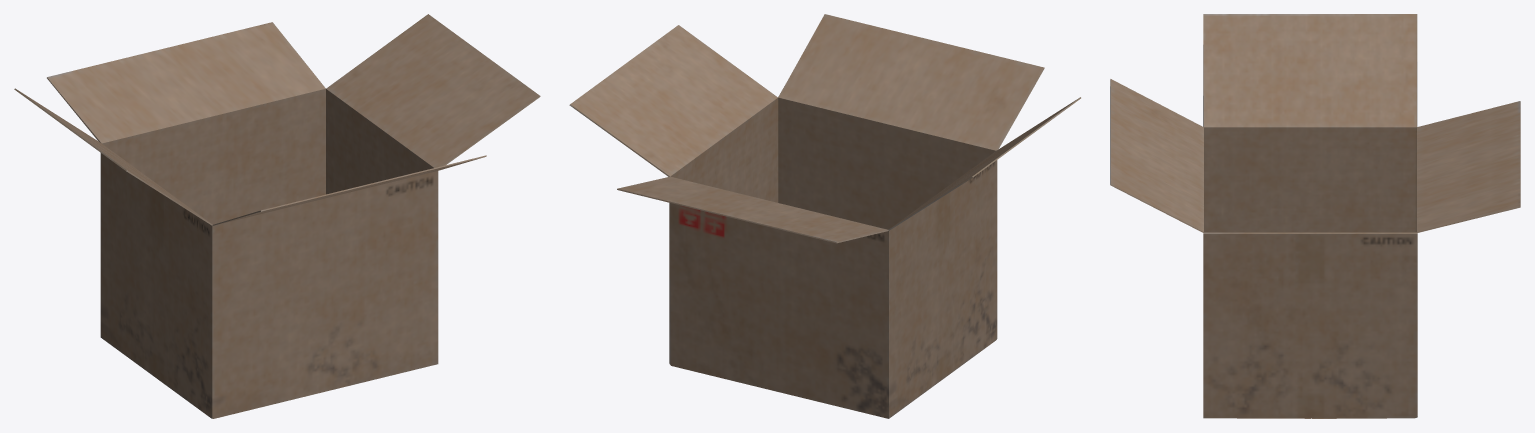
File: Cardboard box.fbx
3 views of the same model, side by side, from view 1: azimuth 30°, elevation 25°; view 2: azimuth 150°, elevation 25°; view 3: azimuth 270°, elevation 25° (orthographic). The views are drawn at different scales.
Parts seen in each view (by area): view 1: Cardboard Boxes; view 2: Cardboard Boxes; view 3: Cardboard Boxes.
Boxes of the visible parts, left/top/right/bottom form: Cardboard Boxes: left=14, top=14, right=540, bottom=418; Cardboard Boxes: left=569, top=14, right=1080, bottom=418; Cardboard Boxes: left=1110, top=14, right=1520, bottom=418.
Size of the model in its own units: 77.84 by 48.56 by 69.62.
